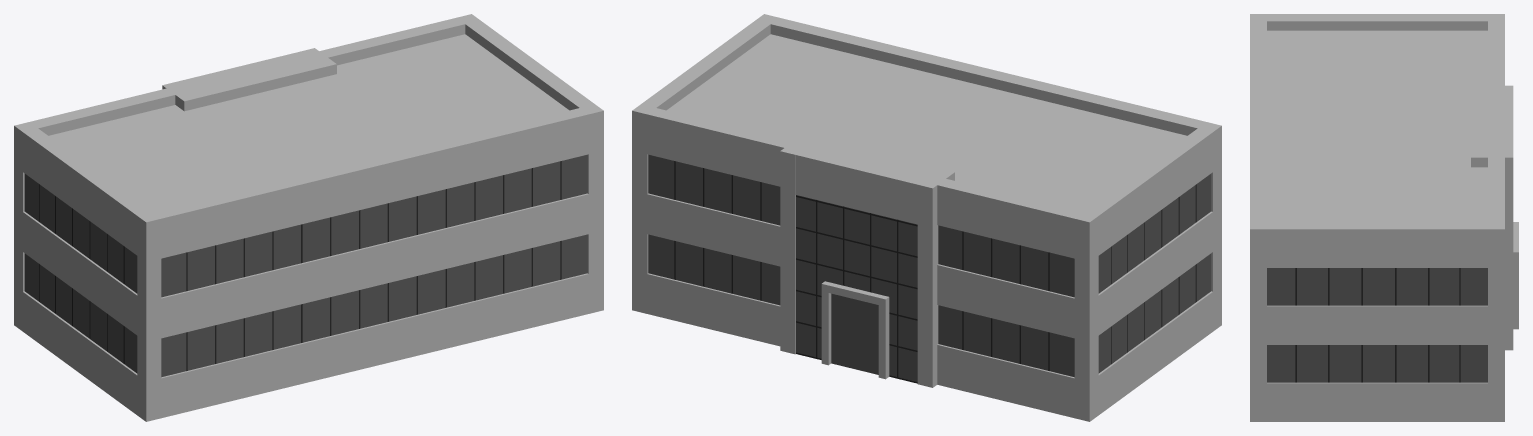
File: spw-urban-bldg-15.glb
The picture shows the model from 3 angles, left to right: view 1: azimuth 30°, elevation 25°; view 2: azimuth 150°, elevation 25°; view 3: azimuth 270°, elevation 25°; orthographic projection. The views are drawn at different scales.
Visible parts, largest first — view 1: SPW_Urban_Bldg_15; view 2: SPW_Urban_Bldg_15; view 3: SPW_Urban_Bldg_15.
Boxes of the visible parts, x1=… form: SPW_Urban_Bldg_15: x1=14, y1=14, x2=603, y2=421; SPW_Urban_Bldg_15: x1=632, y1=14, x2=1221, y2=421; SPW_Urban_Bldg_15: x1=1250, y1=14, x2=1518, y2=421.
Bounding box in the file's own units: 24 × 10 × 12.66.
Materials: 1 (1 with a texture image).
